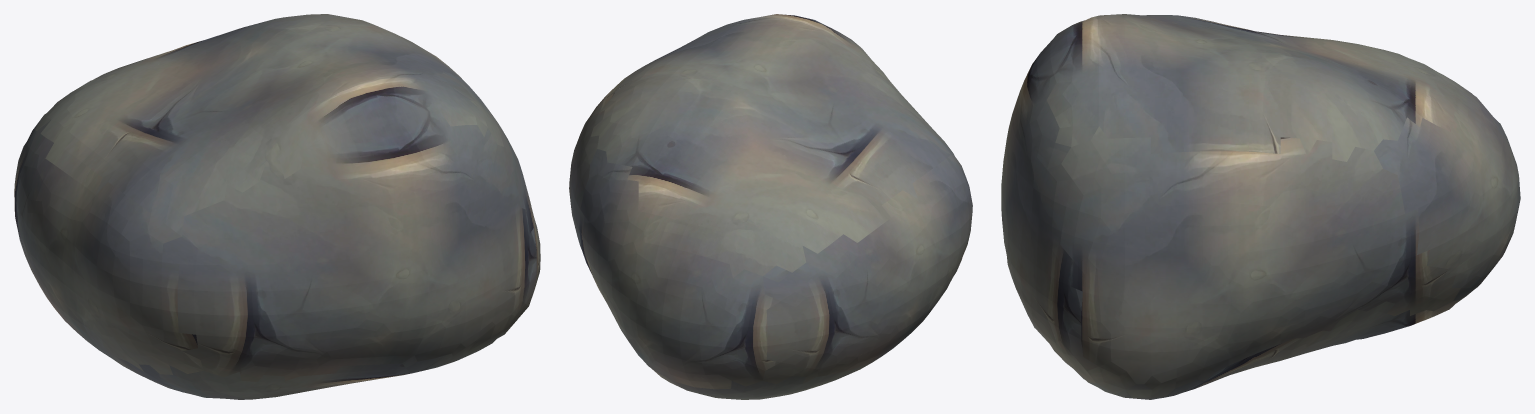
File: boulder1_s23943.gltf
3 renders of one model, left to right at view 1: azimuth 30°, elevation 25°; view 2: azimuth 150°, elevation 25°; view 3: azimuth 270°, elevation 25°, orthographic. The views are drawn at different scales.
Parts seen in each view (by area): view 1: boulder1_s23943_stone_LOD0; view 2: boulder1_s23943_stone_LOD0; view 3: boulder1_s23943_stone_LOD0.
Part boxes in pixels (box(x1,y1,x2,y2)): boulder1_s23943_stone_LOD0: box(14, 14, 540, 399); boulder1_s23943_stone_LOD0: box(569, 14, 972, 399); boulder1_s23943_stone_LOD0: box(1001, 14, 1520, 399).
Size of what is drawn, in the model's own units: 2.39 by 1.7 by 2.52.
Materials: 1 (1 with a texture image).
